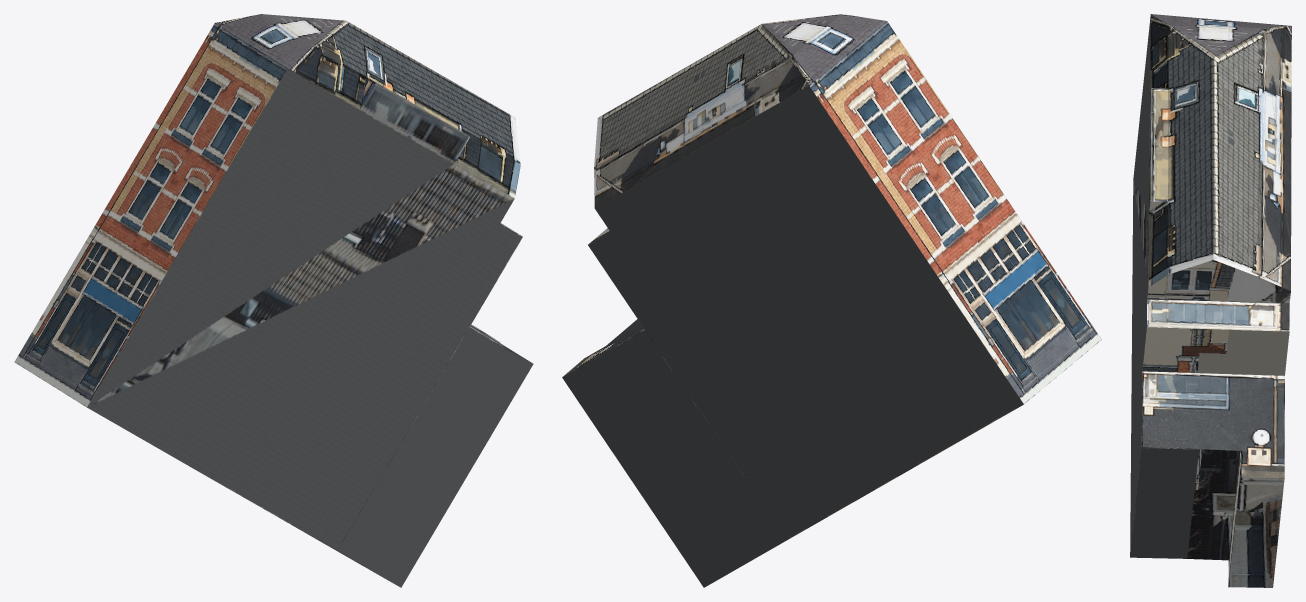
3 renders of one model, left to right at view 1: azimuth 30°, elevation 25°; view 2: azimuth 150°, elevation 25°; view 3: azimuth 270°, elevation 25°, orthographic. The views are drawn at different scales.
Visible parts, largest first — view 1: BAG_0599100000671699 (×4); view 2: BAG_0599100000671699 (×4); view 3: BAG_0599100000671699 (×7).
Part boxes in pixels (x1=…): BAG_0599100000671699 (×4): x1=14, y1=14, x2=533, y2=587; BAG_0599100000671699 (×4): x1=562, y1=14, x2=1101, y2=587; BAG_0599100000671699 (×7): x1=1130, y1=14, x2=1291, y2=587.
Size of the model in its own units: 18.11 by 20.76 by 5.81.
7 materials, 7 textured.
